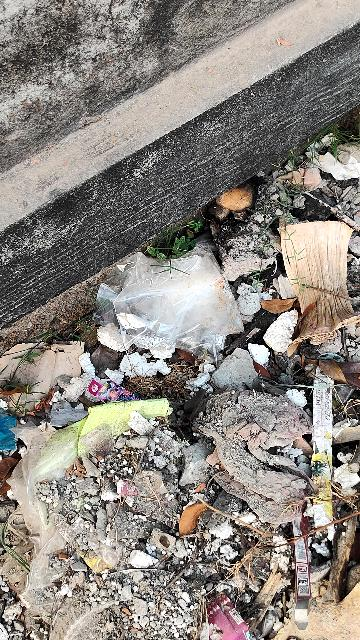polythene: (103, 238, 247, 369)
